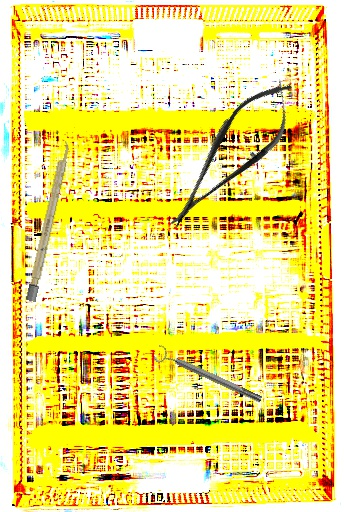Fixation Ring: (152, 343, 265, 409)
Micro Scissor: (150, 67, 312, 243)
Scalpel Handle: (25, 139, 73, 303)
